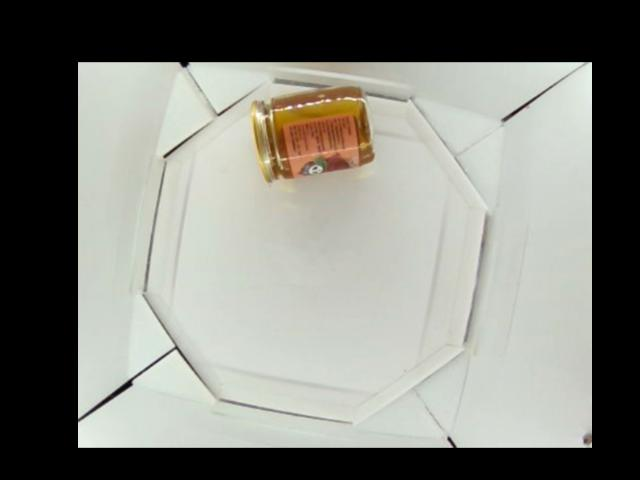Bottle: (249, 83, 375, 184)
